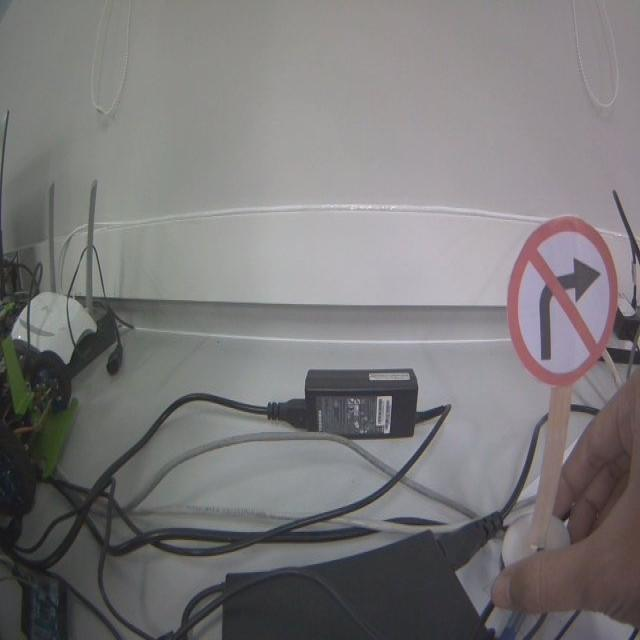Dilarang Belok Kanan: (507, 217, 618, 386)
